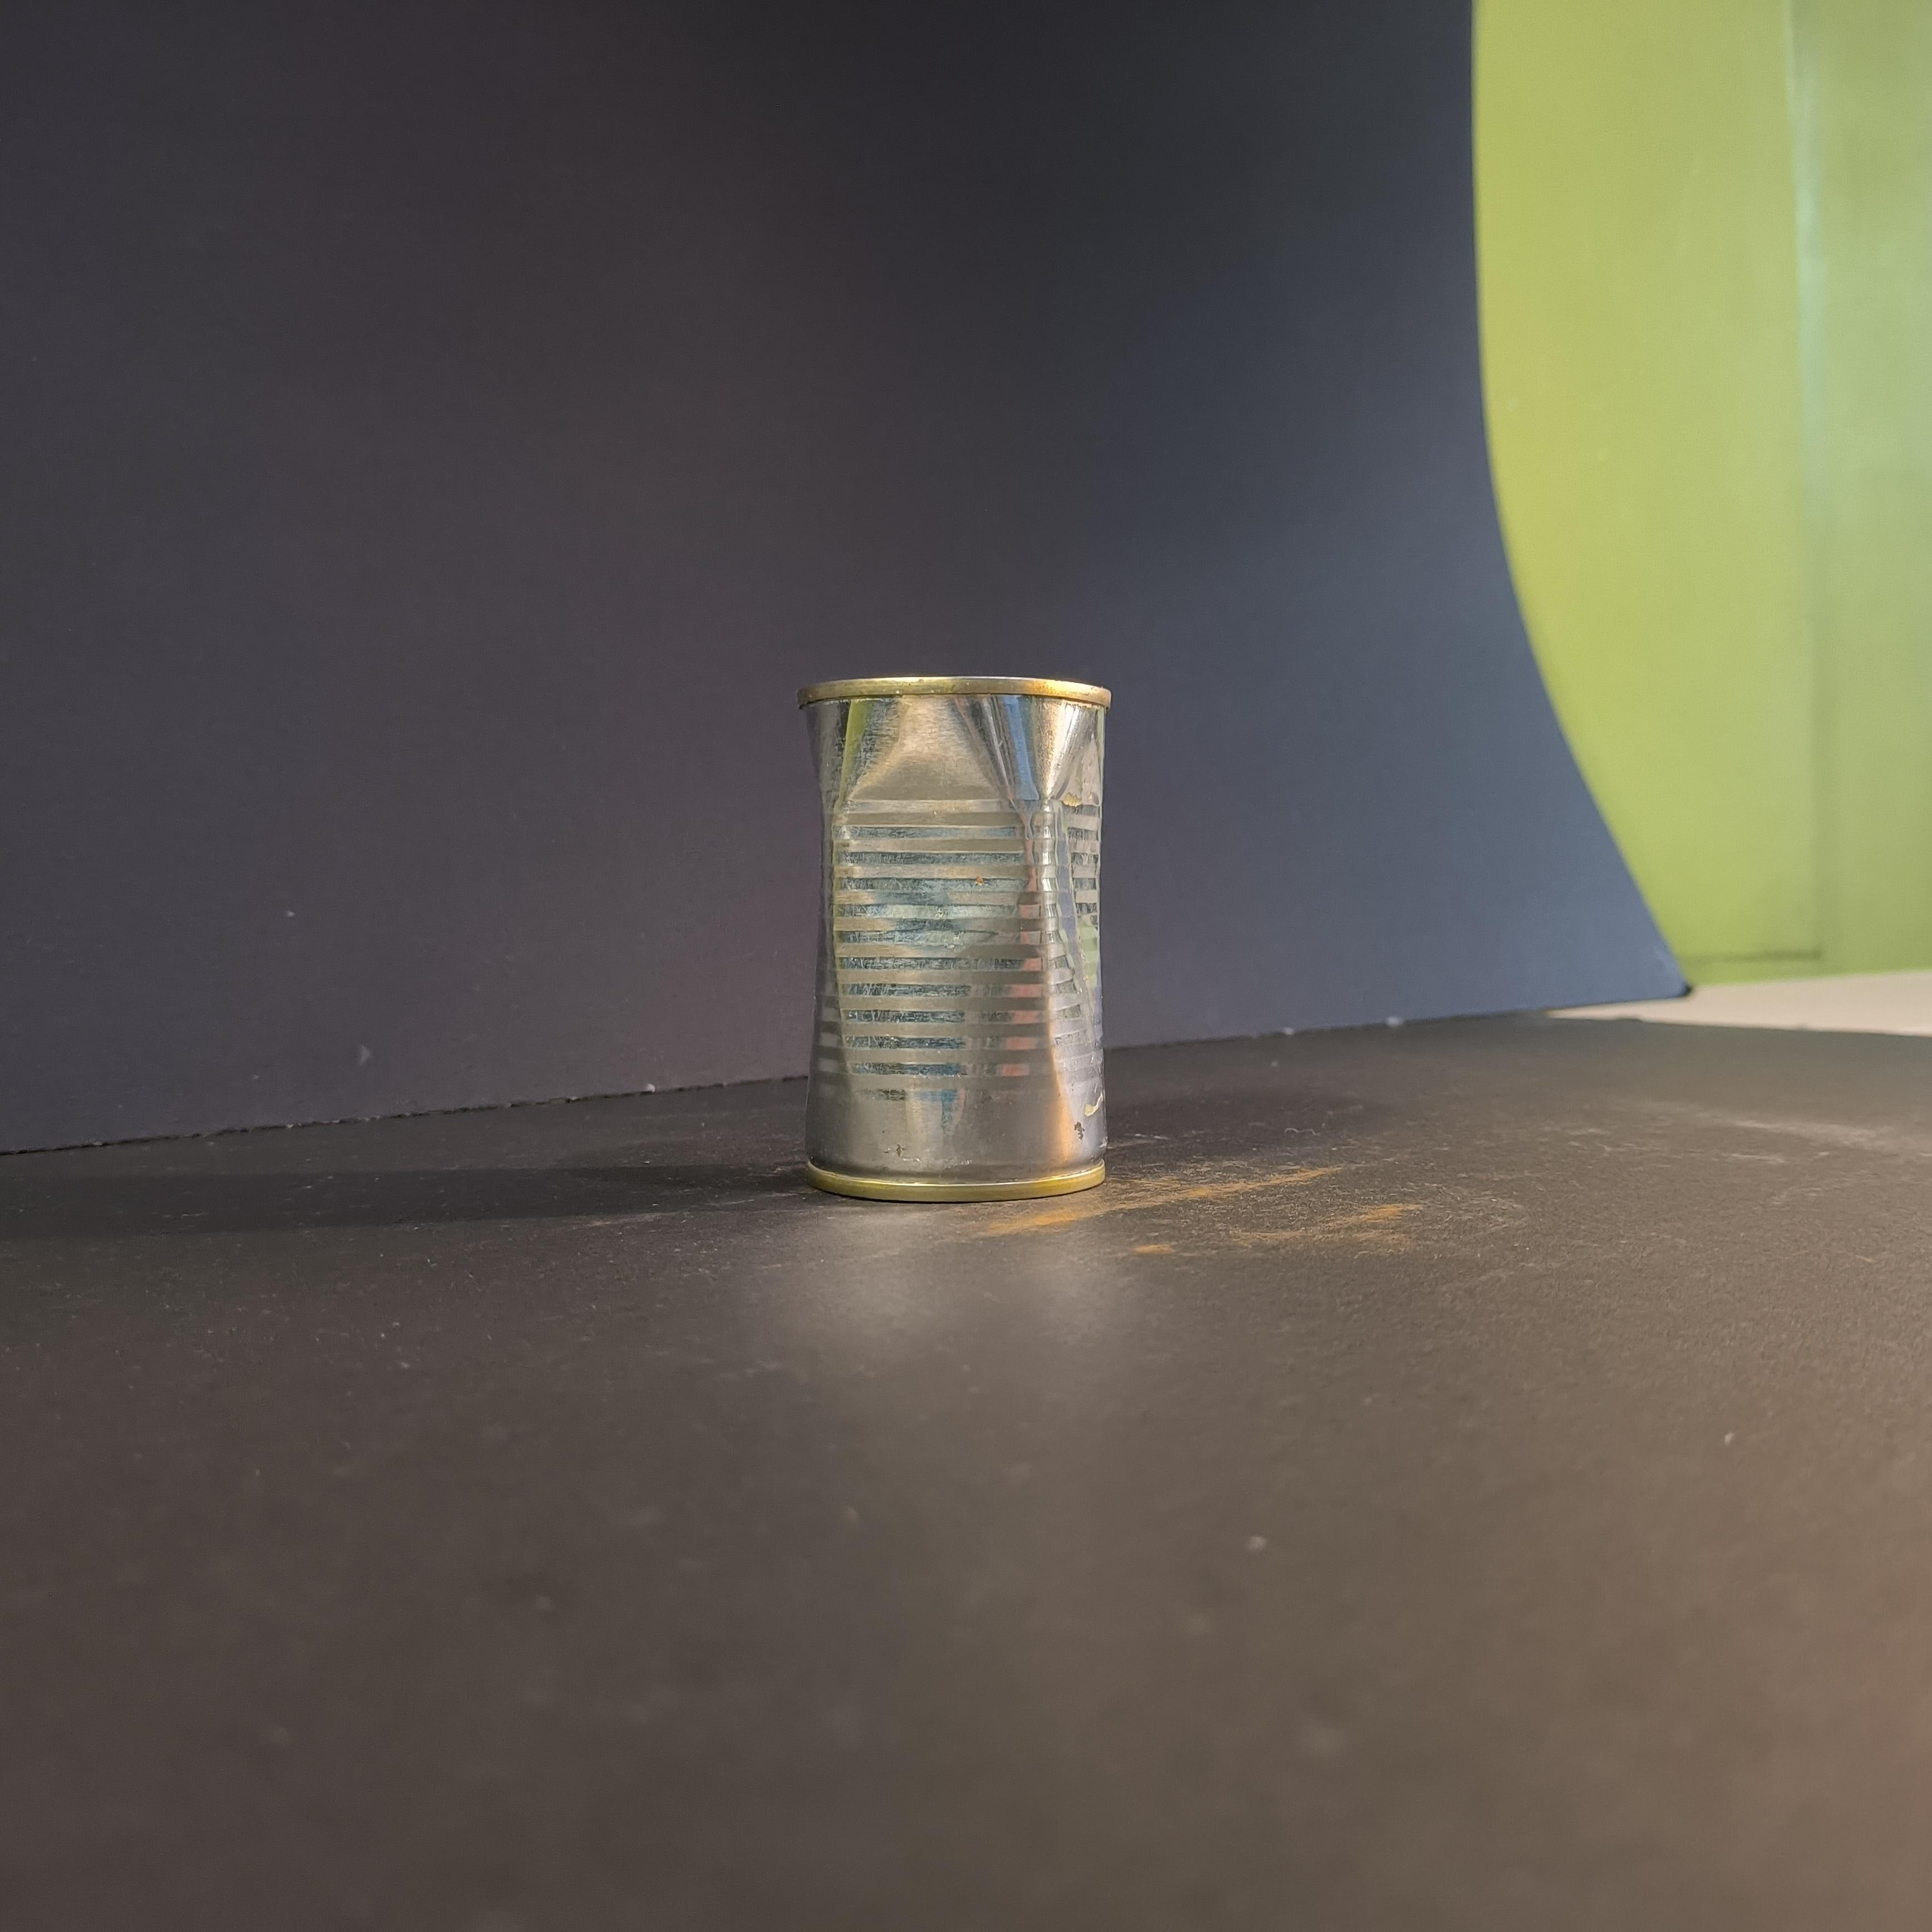Dented: (787, 667, 1152, 1215)
